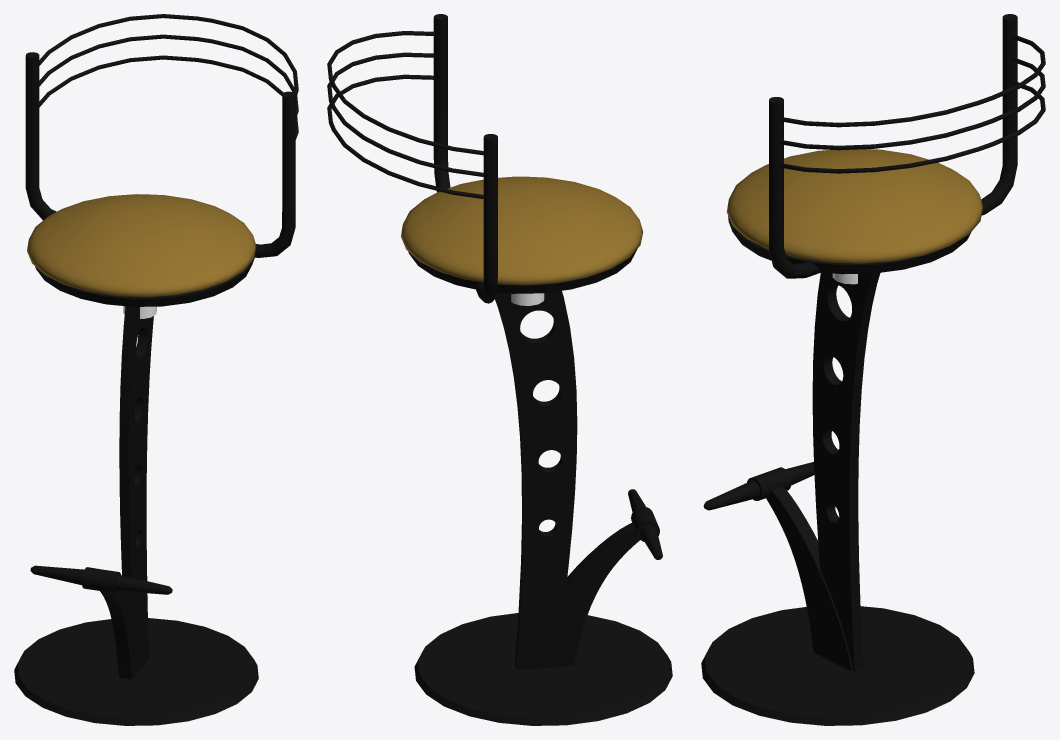
The model's file is chair.obj.
3 views of the same model, side by side, from view 1: azimuth 30°, elevation 25°; view 2: azimuth 150°, elevation 25°; view 3: azimuth 270°, elevation 25° (orthographic). The views are drawn at different scales.
Parts seen in each view (by area): view 1: Stul_mod_3; view 2: Stul_mod_3; view 3: Stul_mod_3.
Boxes of the visible parts, <box> form: Stul_mod_3: <box>14,14,298,725</box>; Stul_mod_3: <box>327,14,672,725</box>; Stul_mod_3: <box>701,14,1045,725</box>.
Size of the model in its own units: 11823 by 23639 by 11480.
